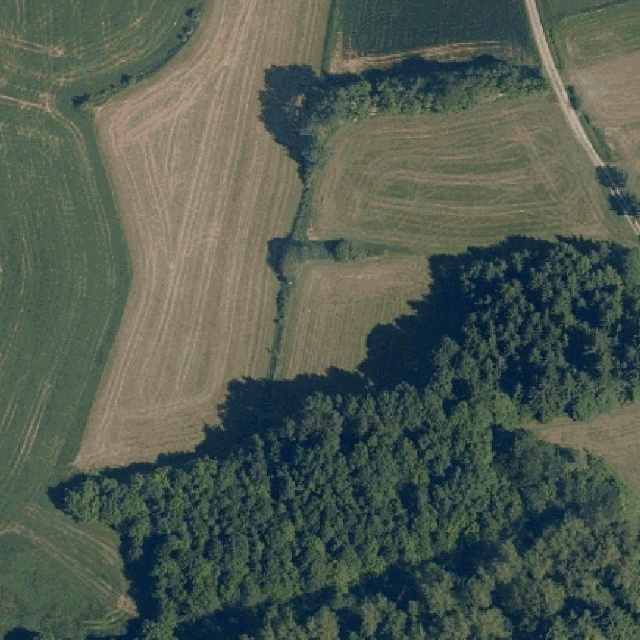vegetation: (57, 244, 640, 640), (266, 63, 549, 291)
